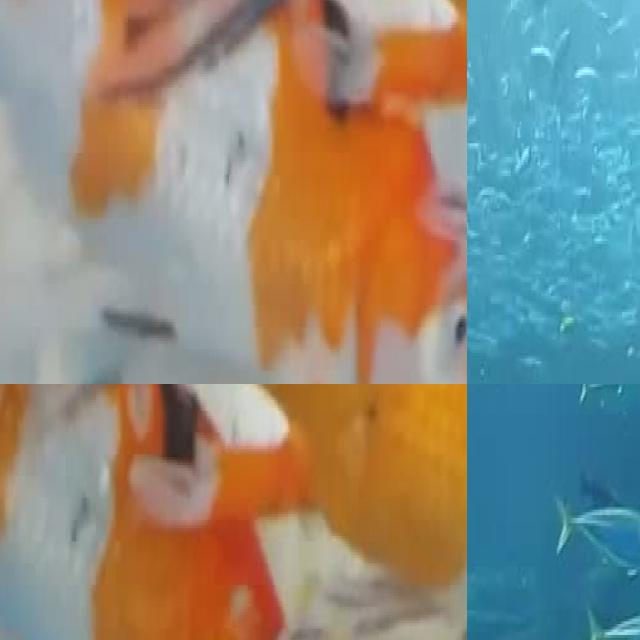fish: (0, 0, 467, 384), (133, 384, 467, 640)
